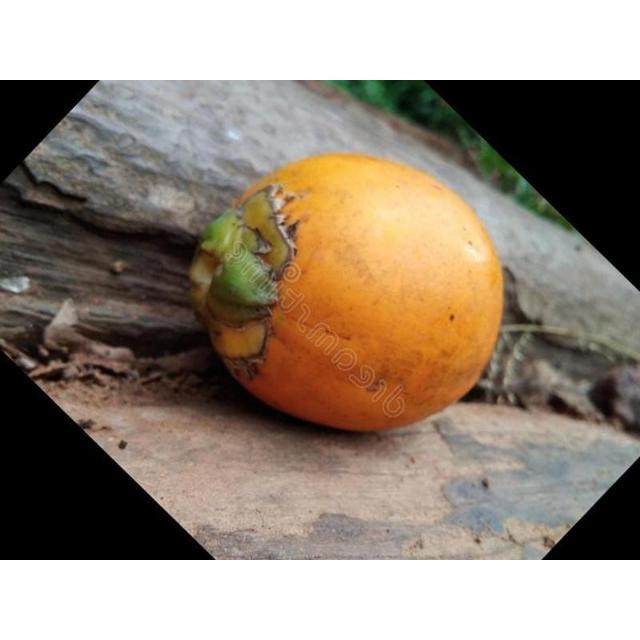good: (190, 154, 504, 434)
